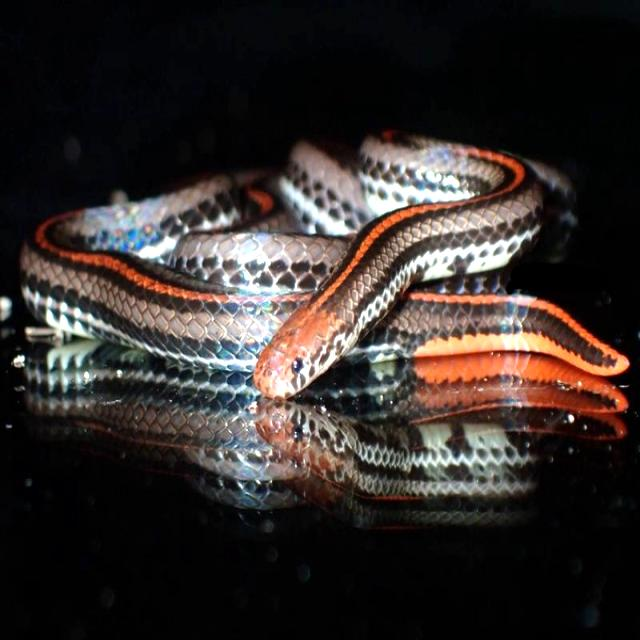Calliophis intestinalis: (21, 133, 627, 396)
snake: (21, 133, 627, 396)
